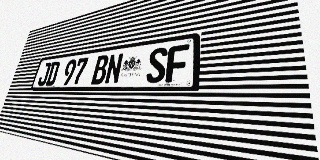7: (71, 57, 89, 85)
9: (61, 59, 78, 85)
B: (91, 55, 110, 85)
D: (45, 61, 60, 86)
F: (165, 44, 189, 83)
J: (37, 62, 52, 86)
N: (104, 53, 124, 84)
S: (145, 47, 168, 83)
